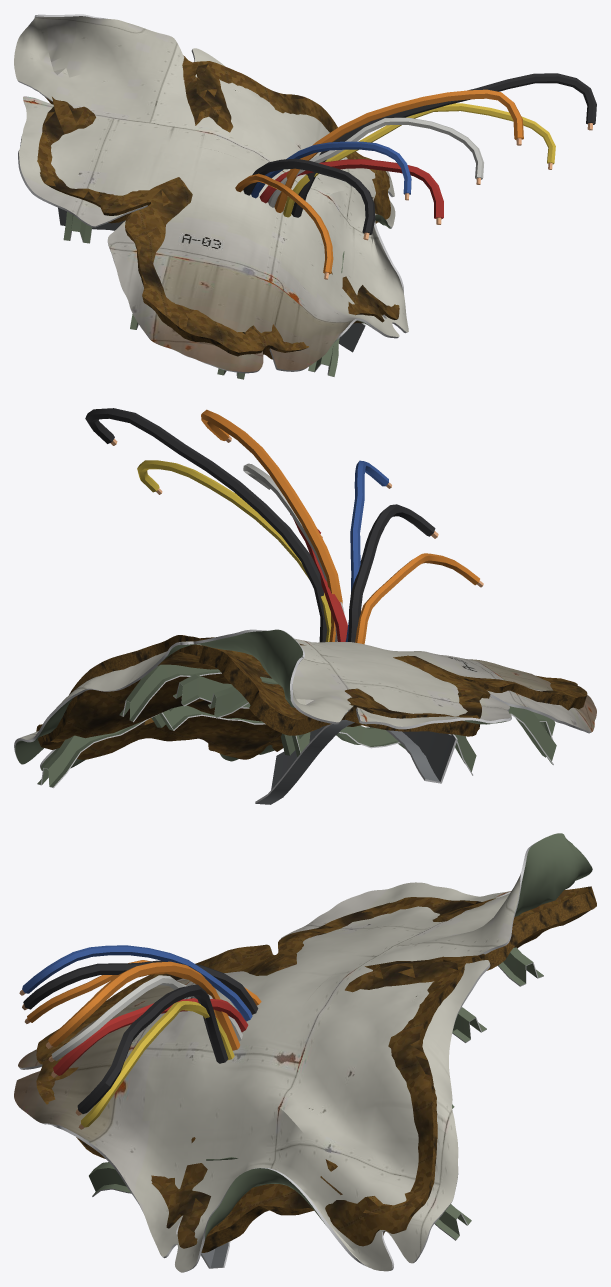
File: capsule_impact_fragment.glb
3 views of the same model, one above another, from view 1: azimuth 30°, elevation 25°; view 2: azimuth 150°, elevation 25°; view 3: azimuth 270°, elevation 25° (orthographic). The views are drawn at different scales.
Parts seen in each view (by area): view 1: capsule_impact_fragment; view 2: capsule_impact_fragment; view 3: capsule_impact_fragment.
Part boxes in pixels (x1,y1,x2,y2): capsule_impact_fragment: (14, 14, 596, 379); capsule_impact_fragment: (14, 408, 596, 804); capsule_impact_fragment: (14, 833, 596, 1272).
Size of the model in its own units: 1.16 by 0.672 by 1.05.
13 materials, 2 textured.
